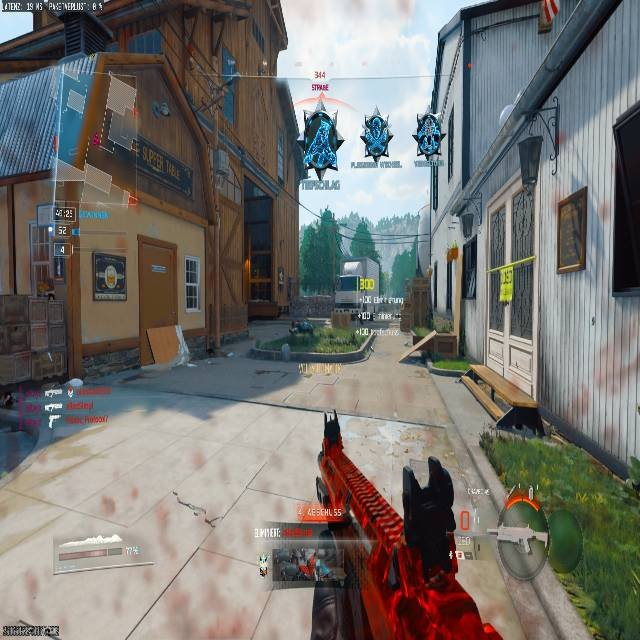player: (301, 107, 342, 184), (360, 115, 393, 160), (288, 318, 314, 335)
